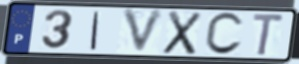3: (38, 8, 74, 51)
C: (202, 11, 246, 57)
I: (89, 10, 102, 51)
T: (250, 12, 287, 58)
V: (120, 8, 167, 56)
X: (161, 9, 204, 56)
